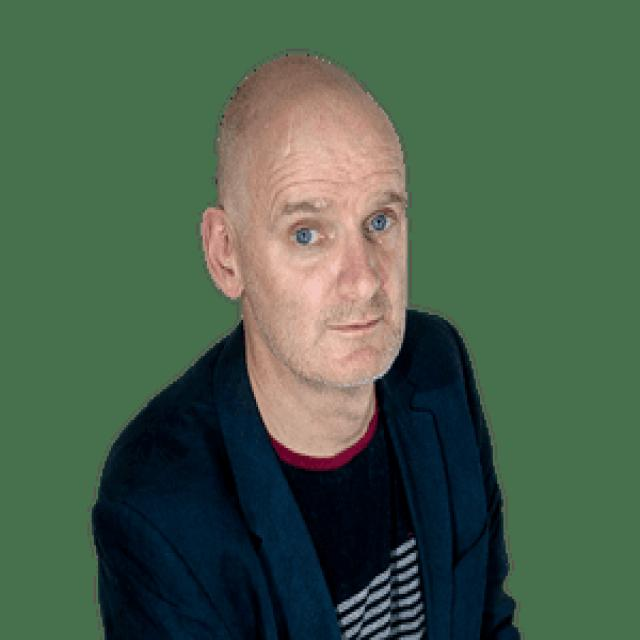human: (81, 41, 538, 640)
